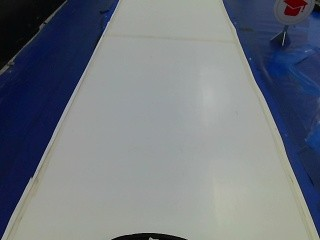school: (272, 0, 318, 28)
